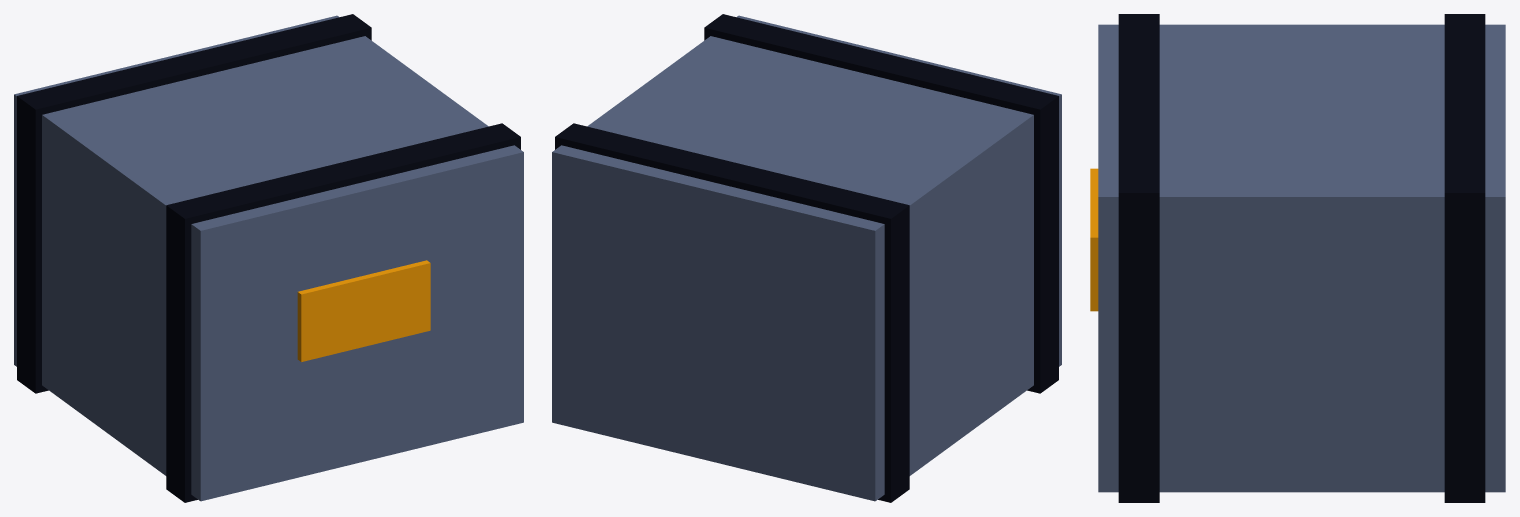
File: cargo_crate.obj
The picture shows the model from 3 angles, left to right: view 1: azimuth 30°, elevation 25°; view 2: azimuth 150°, elevation 25°; view 3: azimuth 270°, elevation 25°; orthographic projection. The views are drawn at different scales.
Parts seen in each view (by area): view 1: cargo_crate; view 2: cargo_crate; view 3: cargo_crate.
Boxes of the visible parts, x1,y1,x2,y2 form: cargo_crate: [14, 14, 523, 502]; cargo_crate: [552, 14, 1061, 502]; cargo_crate: [1090, 14, 1505, 502].
Size of the model in its own units: 1.04 by 0.84 by 1.02.
